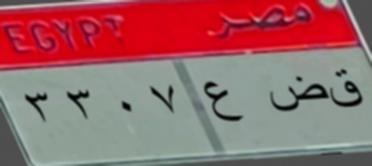0: (118, 97, 135, 116)
3: (21, 89, 51, 130), (64, 88, 96, 120)
7: (147, 81, 178, 118)
ain: (202, 76, 245, 126)
daad: (266, 76, 328, 112)
qaaf: (328, 66, 364, 116)
